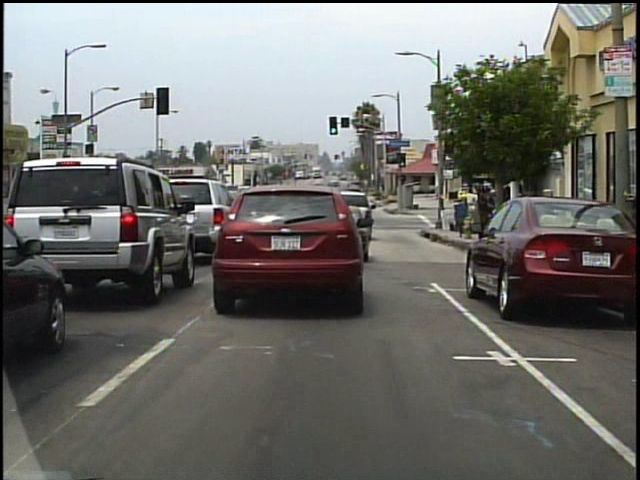person: (477, 191, 492, 240)
